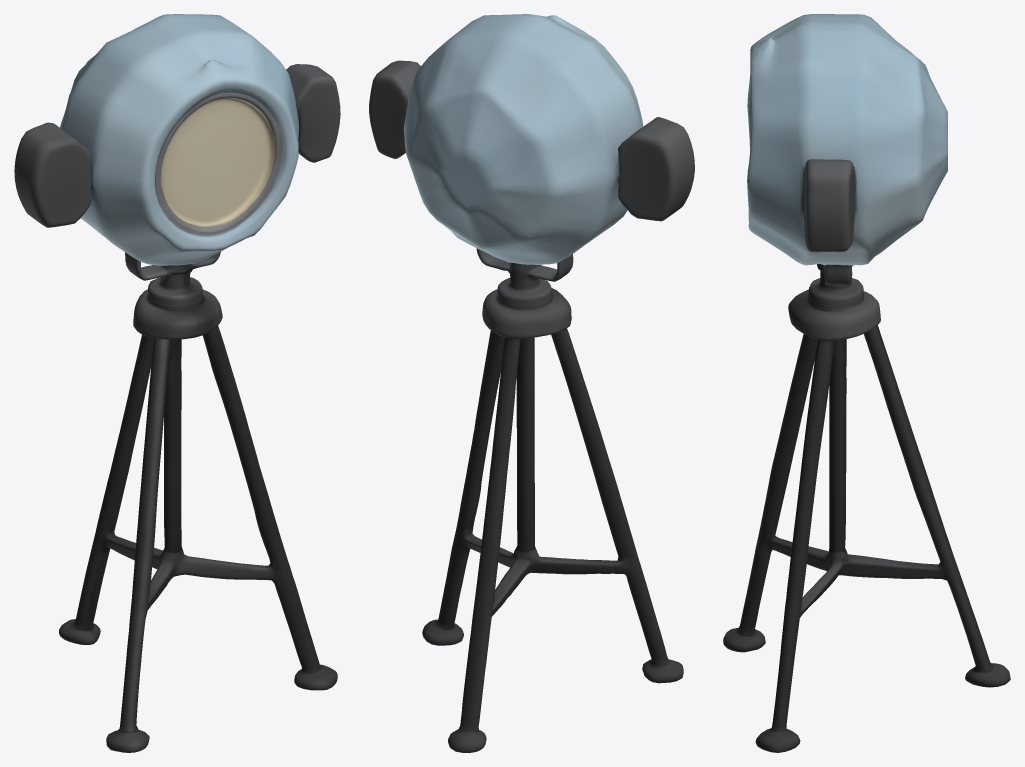
File: text_attempt.glb
3 views of the same model, side by side, from view 1: azimuth 30°, elevation 25°; view 2: azimuth 150°, elevation 25°; view 3: azimuth 270°, elevation 25° (orthographic).
Visible parts, largest first — view 1: model; view 2: model; view 3: model.
Boxes of the visible parts, bbox=[...] form: model: bbox=[14, 14, 340, 752]; model: bbox=[369, 14, 694, 752]; model: bbox=[723, 14, 1010, 752].
Size of the model in its own units: 0.9275 by 1.9 by 0.7428.
Materials: 1 (1 with a texture image).
